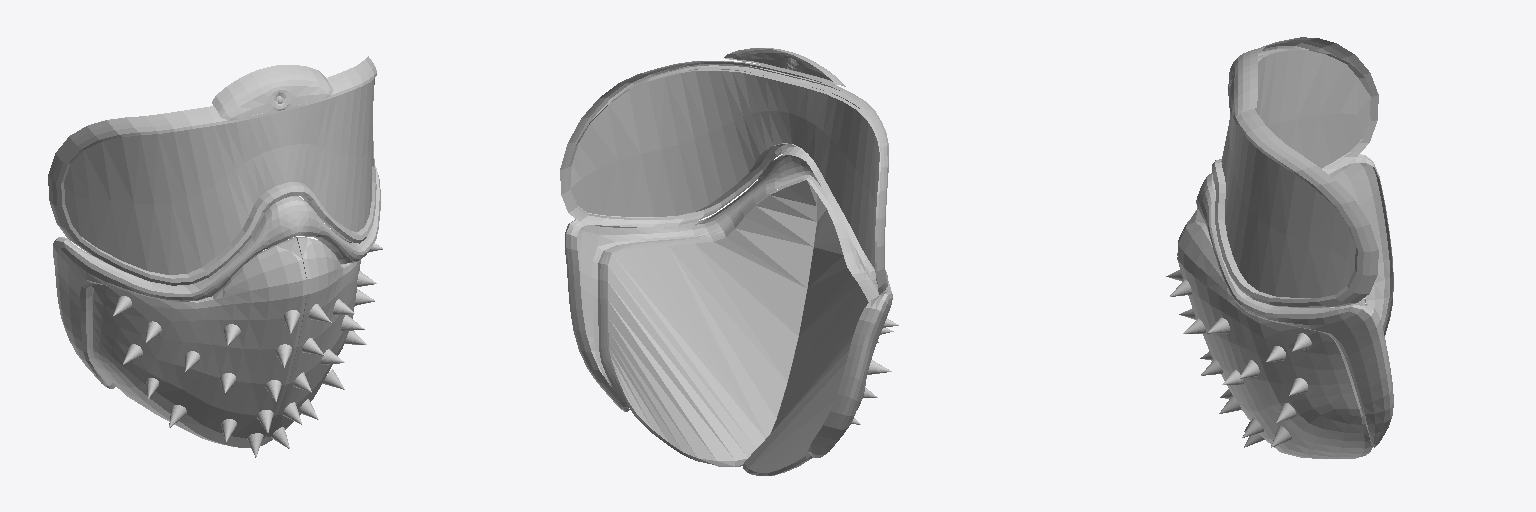
File: WrenchMask_v2.obj
3 views of the same model, side by side, from view 1: azimuth 30°, elevation 25°; view 2: azimuth 150°, elevation 25°; view 3: azimuth 270°, elevation 25° (orthographic).
Parts seen in each view (by area): view 1: wrenchmaskfw_wrenchmask_ref, wrenchmaskfw_grid; view 2: wrenchmaskfw_wrenchmask_ref; view 3: wrenchmaskfw_wrenchmask_ref, wrenchmaskfw_grid.
Part boxes in pixels (x1,y1,x2,y2): wrenchmaskfw_wrenchmask_ref: (48,56,382,457); wrenchmaskfw_grid: (64,78,374,274); wrenchmaskfw_wrenchmask_ref: (560,48,898,475); wrenchmaskfw_wrenchmask_ref: (1166,37,1393,458); wrenchmaskfw_grid: (1221,48,1355,297).
Size of the model in its own units: 7.32 by 8.68 by 4.55.